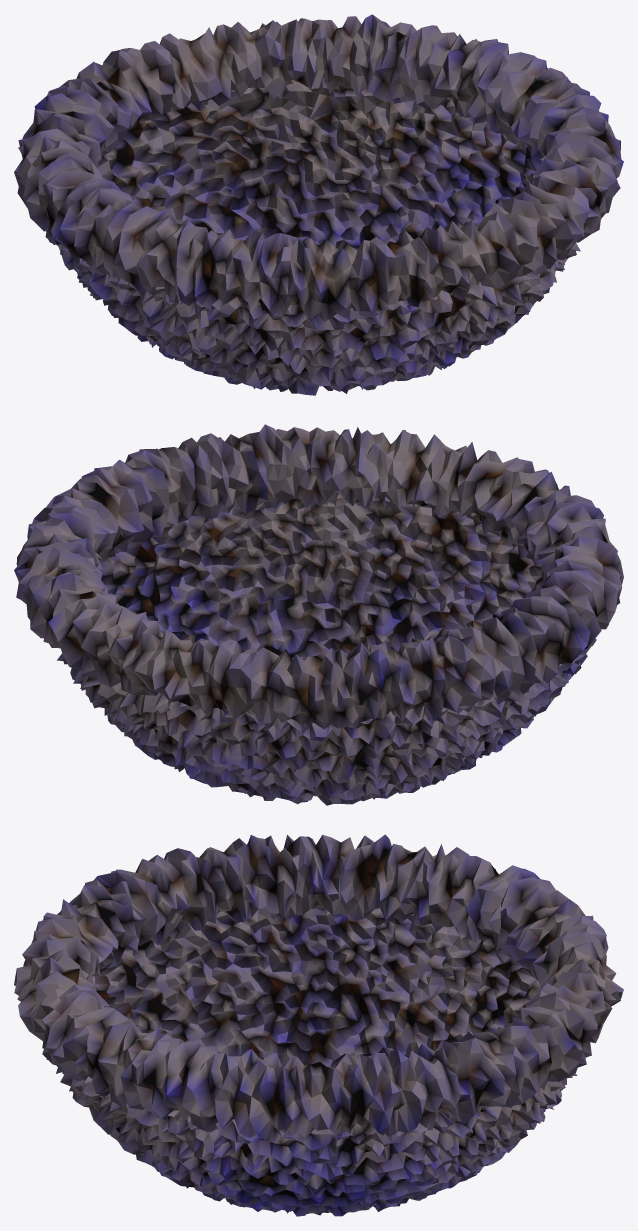
The model's file is bowl_final100.obj.
3 renders of one model, top to bottom at view 1: azimuth 30°, elevation 25°; view 2: azimuth 150°, elevation 25°; view 3: azimuth 270°, elevation 25°, orthographic.
Size of the model in its own units: 2.13 by 0.8206 by 2.12.
